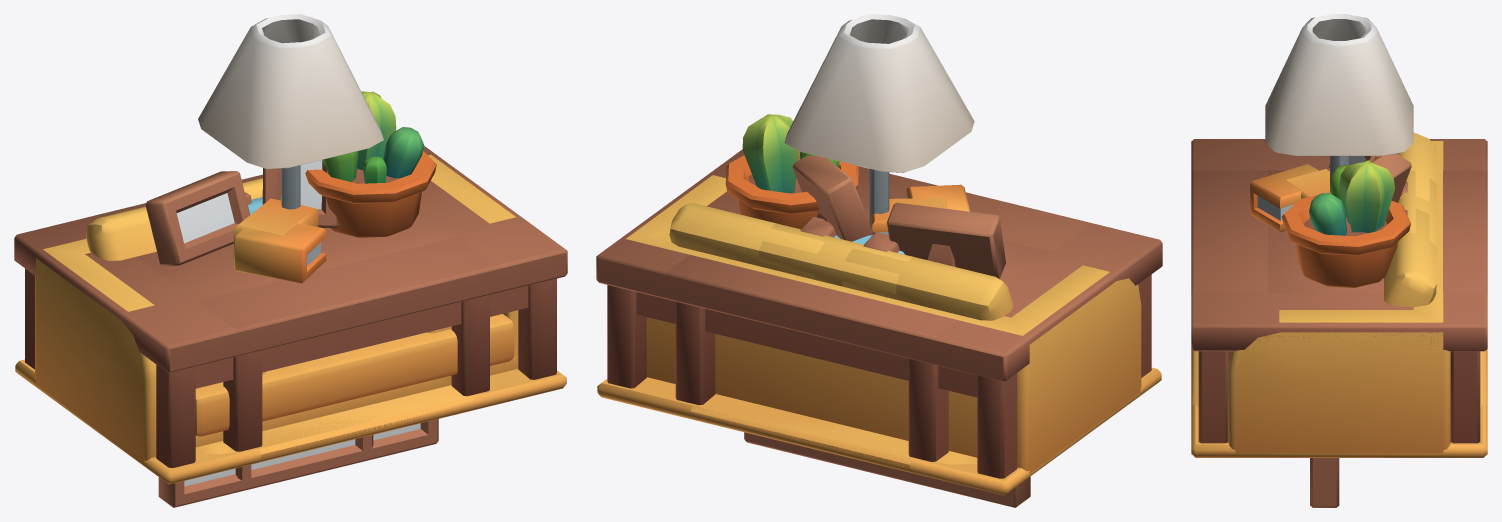
The model's file is furniture-bits.glb.
3 renders of one model, left to right at view 1: azimuth 30°, elevation 25°; view 2: azimuth 150°, elevation 25°; view 3: azimuth 270°, elevation 25°, orthographic. The views are drawn at different scales.
Visible parts, largest first — view 1: table_medium_long, couch_pillows, table_medium, lamp_standing, cabinet_medium_decorated, rug_rectangle_A, cabinet_small_decorated, cabinet_medium, rug_oval_A, pictureframe_large_B, armchair_pillows, pictureframe_large_A (+1 smaller); view 2: couch_pillows, table_medium_long, lamp_standing, table_medium, cabinet_medium_decorated, rug_rectangle_A, cabinet_small_decorated, rug_oval_A, armchair_pillows, rug_rectangle_stripes_A, pictureframe_large_B, cabinet_medium (+2 smaller); view 3: couch_pillows, table_medium_long, lamp_standing, table_medium, cabinet_medium_decorated, cabinet_small_decorated, rug_rectangle_A, cabinet_medium, pictureframe_large_B, armchair_pillows, rug_oval_A.
Boxes of the visible parts, bbox=[...] form: table_medium_long: bbox=[14, 146, 567, 467]; couch_pillows: bbox=[35, 154, 518, 462]; table_medium: bbox=[84, 174, 499, 451]; lamp_standing: bbox=[198, 14, 383, 209]; cabinet_medium_decorated: bbox=[145, 91, 436, 266]; rug_rectangle_A: bbox=[15, 359, 566, 484]; cabinet_small_decorated: bbox=[234, 160, 339, 283]; cabinet_medium: bbox=[138, 208, 458, 300]; rug_oval_A: bbox=[73, 385, 483, 462]; pictureframe_large_B: bbox=[158, 419, 438, 507]; armchair_pillows: bbox=[242, 178, 451, 431]; pictureframe_large_A: bbox=[235, 435, 373, 489]; couch_pillows: bbox=[626, 175, 1141, 473]; table_medium_long: bbox=[596, 149, 1162, 478]; lamp_standing: bbox=[784, 14, 974, 233]; table_medium: bbox=[666, 166, 1090, 461]; cabinet_medium_decorated: bbox=[725, 114, 1005, 279]; rug_rectangle_A: bbox=[597, 367, 1161, 495]; cabinet_small_decorated: bbox=[792, 155, 970, 241]; rug_oval_A: bbox=[645, 377, 1108, 469]; armchair_pillows: bbox=[759, 223, 912, 294]; rug_rectangle_stripes_A: bbox=[602, 368, 1156, 480]; pictureframe_large_B: bbox=[744, 432, 1030, 507]; cabinet_medium: bbox=[1000, 240, 1050, 284]; couch_pillows: bbox=[1228, 132, 1450, 453]; table_medium_long: bbox=[1191, 139, 1487, 443]; lamp_standing: bbox=[1265, 14, 1413, 191]; table_medium: bbox=[1191, 170, 1487, 295]; cabinet_medium_decorated: bbox=[1281, 156, 1410, 287]; cabinet_small_decorated: bbox=[1250, 153, 1411, 231]; rug_rectangle_A: bbox=[1191, 349, 1487, 457]; cabinet_medium: bbox=[1268, 170, 1383, 292]; pictureframe_large_B: bbox=[1310, 458, 1339, 507]; armchair_pillows: bbox=[1398, 170, 1436, 246]; rug_oval_A: bbox=[1192, 350, 1486, 457].
Bounding box in the file's own units: 3 × 3.12 × 2.
Materials: 1 (1 with a texture image).
